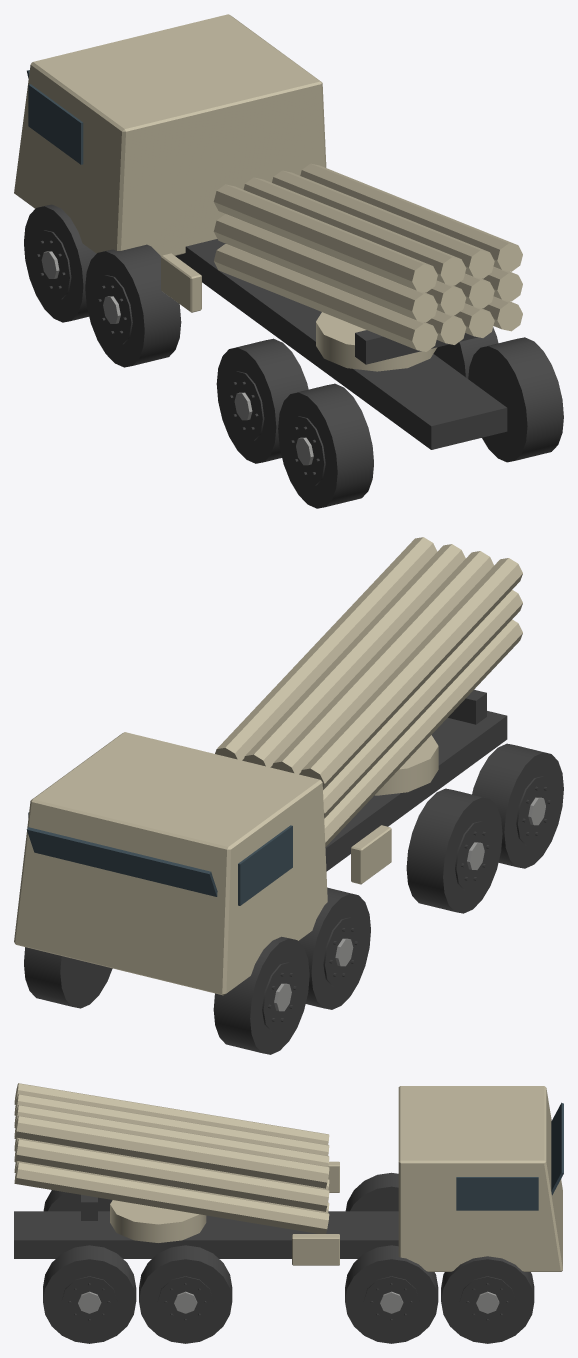
Rendered from rus_mlrs_tors.glb.
The picture shows the model from 3 angles, top to bottom: view 1: azimuth 30°, elevation 25°; view 2: azimuth 150°, elevation 25°; view 3: azimuth 270°, elevation 25°; orthographic projection. The views are drawn at different scales.
Visible parts, largest first — view 1: body, barrel, wheel_6, wheel_2, wheel_7, wheel_4, wheel_0, turret, wheel_5; view 2: body, barrel, wheel_4, wheel_6, wheel_0, wheel_2, wheel_1, turret; view 3: body, barrel, wheel_7, wheel_5, wheel_3, wheel_1, turret, wheel_2, wheel_6.
Boxes of the visible parts, x1,y1,x2,y2 form: body: [14, 14, 507, 449]; barrel: [213, 163, 522, 364]; wheel_6: [278, 383, 373, 508]; wheel_2: [85, 244, 181, 367]; wheel_7: [468, 337, 563, 462]; wheel_4: [216, 338, 308, 463]; wheel_0: [24, 204, 96, 322]; turret: [316, 312, 437, 371]; wheel_5: [433, 327, 498, 378]; body: [14, 711, 507, 995]; barrel: [215, 537, 522, 846]; wheel_4: [406, 788, 502, 913]; wheel_6: [472, 743, 563, 868]; wheel_0: [213, 936, 309, 1054]; wheel_2: [298, 887, 370, 1009]; wheel_1: [24, 947, 112, 1008]; turret: [375, 735, 438, 795]; body: [14, 1086, 563, 1271]; barrel: [14, 1083, 329, 1233]; wheel_7: [43, 1245, 136, 1343]; wheel_5: [139, 1245, 232, 1343]; wheel_3: [345, 1245, 438, 1343]; wheel_1: [441, 1256, 534, 1343]; turret: [110, 1200, 206, 1242]; wheel_2: [345, 1172, 398, 1211]; wheel_6: [43, 1190, 112, 1211].
Size of the model in its own units: 3.1 by 3.23 by 8.01.
